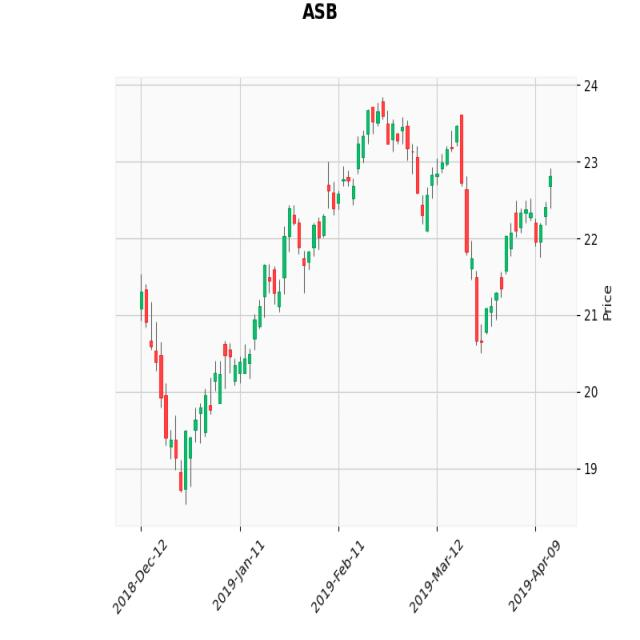Double-Top: (345, 95, 479, 241)
